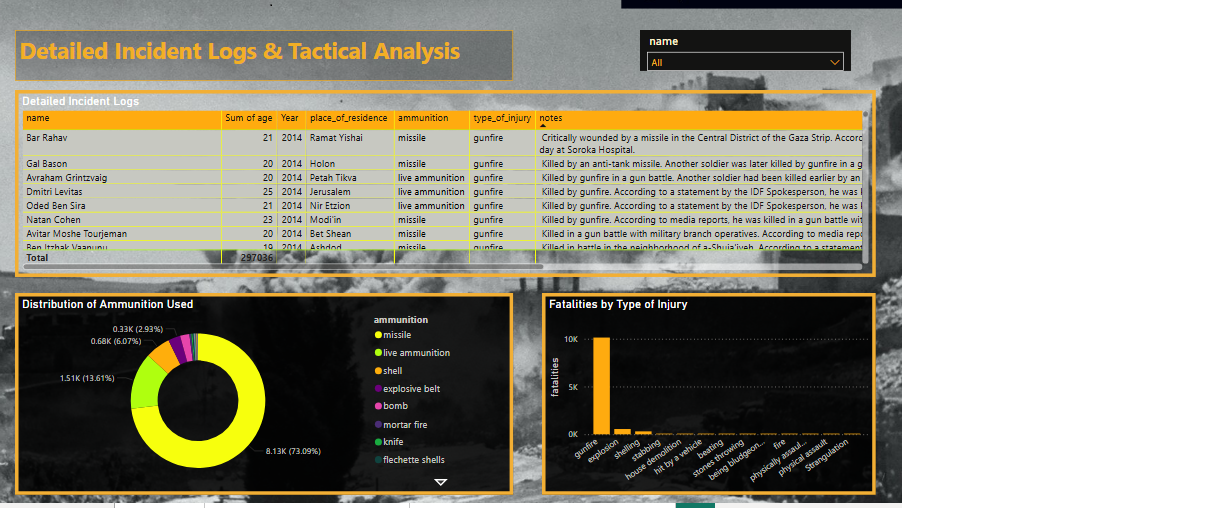

The dashboard page shown, as its layout file describes it:
{"tool":"powerbi","page":{"name":"Detailed Incident Logs & Tactical Analysis ","canvas":[1280,720],"ordinal":2},"visuals":[{"type":"textbox","box":[21.3,49.6,705.8,72.3],"z":0},{"type":"tableEx","title":"Detailed Incident Logs","fields":{"Values":["cleaned.name","Sum(cleaned.age)","cleaned.date_of_event.Variation.Date Hierarchy.Year","cleaned.place_of_residence","cleaned.ammunition","cleaned.type_of_injury","cleaned.notes"]},"box":[21.3,134.6,1220.3,265],"z":1000},{"type":"donutChart","title":"Distribution of Ammunition Used","fields":{"Category":["cleaned.ammunition"],"Y":["CountNonNull(cleaned.name)"]},"box":[21.3,422.4,705.8,286.3],"z":2000},{"type":"slicer","fields":{"Values":["cleaned.name"]},"box":[907.1,49.6,299.1,58.1],"z":3000},{"type":"columnChart","title":"Fatalities by Type of Injury","fields":{"Category":["cleaned.type_of_injury"],"Y":["CountNonNull(cleaned.name)"]},"box":[768.2,422.4,473.4,286.3],"z":4000}]}

Visuals, with their boxes on the page's 1280x720 design canvas (x1, y1, x2, y2). These are canvas units, not pixel positions in the 1216x508 screenshot, which may show the page scaled, cropped or inside an application window:
textbox: l=21, t=50, r=727, b=122
"Detailed Incident Logs" tableEx: l=21, t=135, r=1242, b=400
"Distribution of Ammunition Used" donutChart: l=21, t=422, r=727, b=709
slicer - cleaned.name: l=907, t=50, r=1206, b=108
"Fatalities by Type of Injury" columnChart: l=768, t=422, r=1242, b=709
